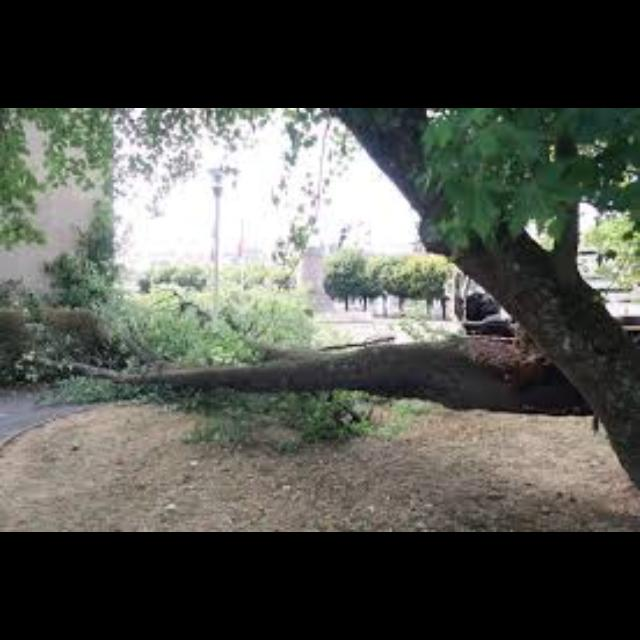Fallen Tree: (182, 332, 640, 413)
